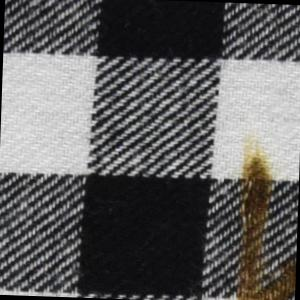Oil Stain: (230, 142, 300, 300)
